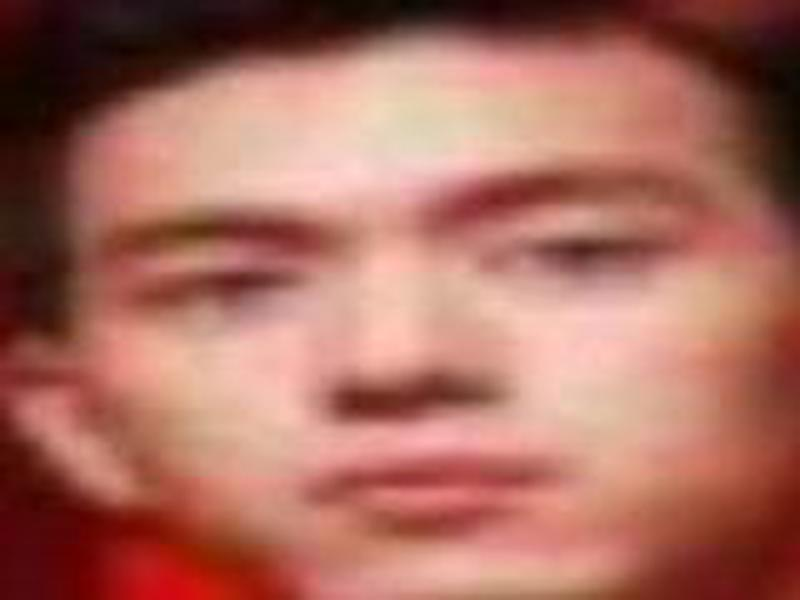without_mask: (57, 97, 782, 597)
